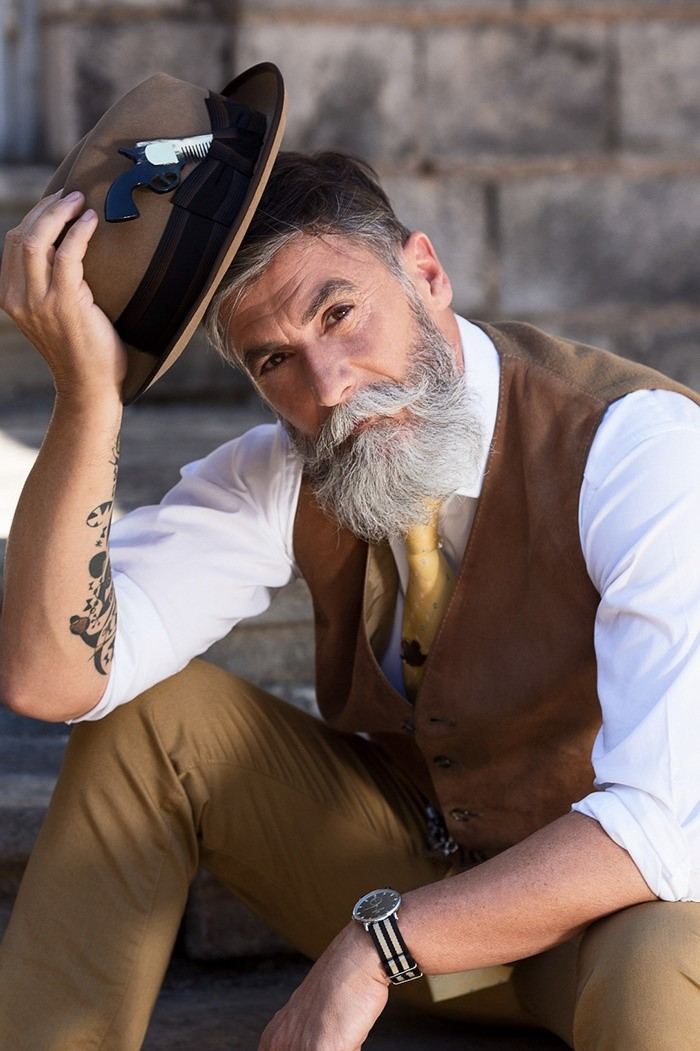face_no_mask: (195, 198, 459, 533)
